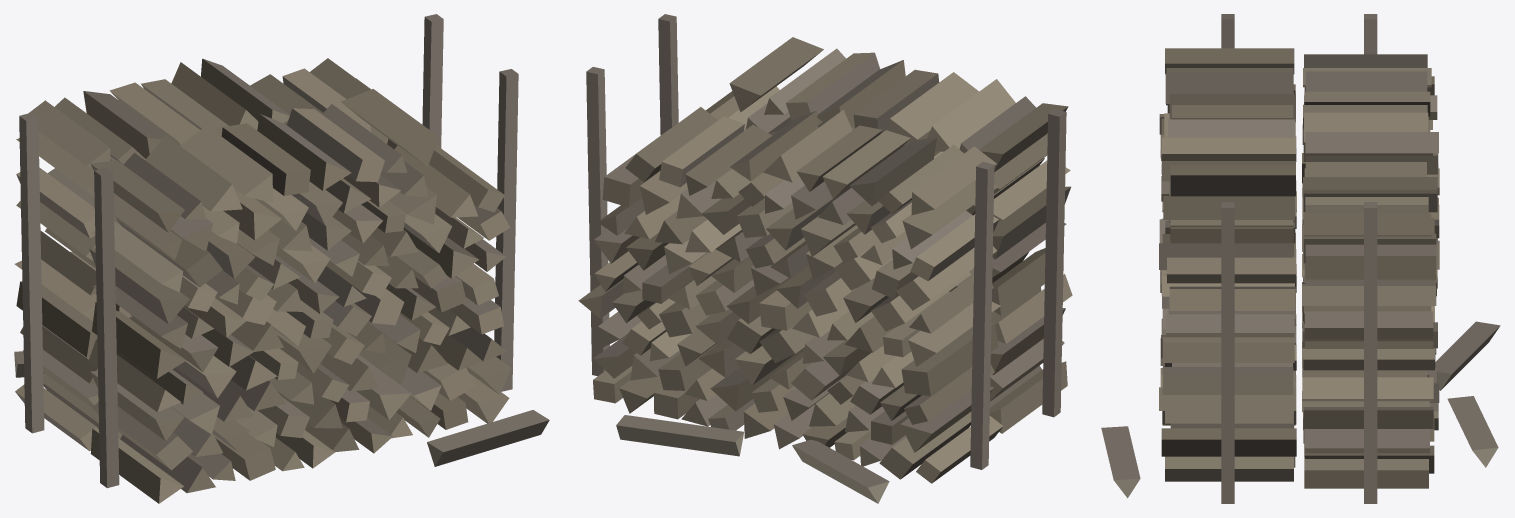
The model's file is prop_woodpile.glb.
3 renders of one model, left to right at view 1: azimuth 30°, elevation 25°; view 2: azimuth 150°, elevation 25°; view 3: azimuth 270°, elevation 25°, orthographic. The views are drawn at different scales.
Parts seen in each view (by area): view 1: Woodpile; view 2: Woodpile; view 3: Woodpile.
Part boxes in pixels (x1,y1,x2,y2): Woodpile: [14, 14, 549, 503]; Woodpile: [578, 14, 1072, 503]; Woodpile: [1101, 14, 1500, 503].
Bounding box in the file's own units: 2.06 × 1.5 × 1.79.
